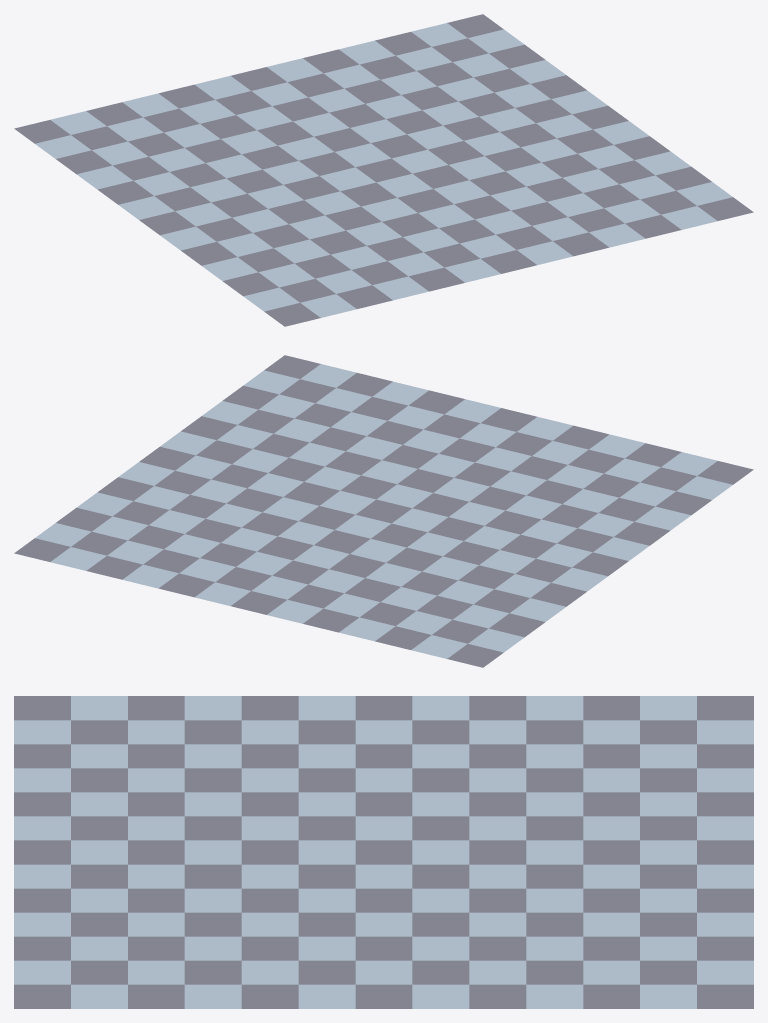
Rendered from Suelo.fbx.
3 renders of one model, top to bottom at view 1: azimuth 30°, elevation 25°; view 2: azimuth 150°, elevation 25°; view 3: azimuth 270°, elevation 25°, orthographic. The views are drawn at different scales.
Visible parts, largest first — view 1: Suelo; view 2: Suelo; view 3: Suelo.
Part boxes in pixels (left/top/right/bottom): Suelo: left=14, top=14, right=753, bottom=326; Suelo: left=14, top=355, right=753, bottom=667; Suelo: left=14, top=696, right=753, bottom=1008.
Size of the model in its own units: 2500 by 0.000407 by 2500.
